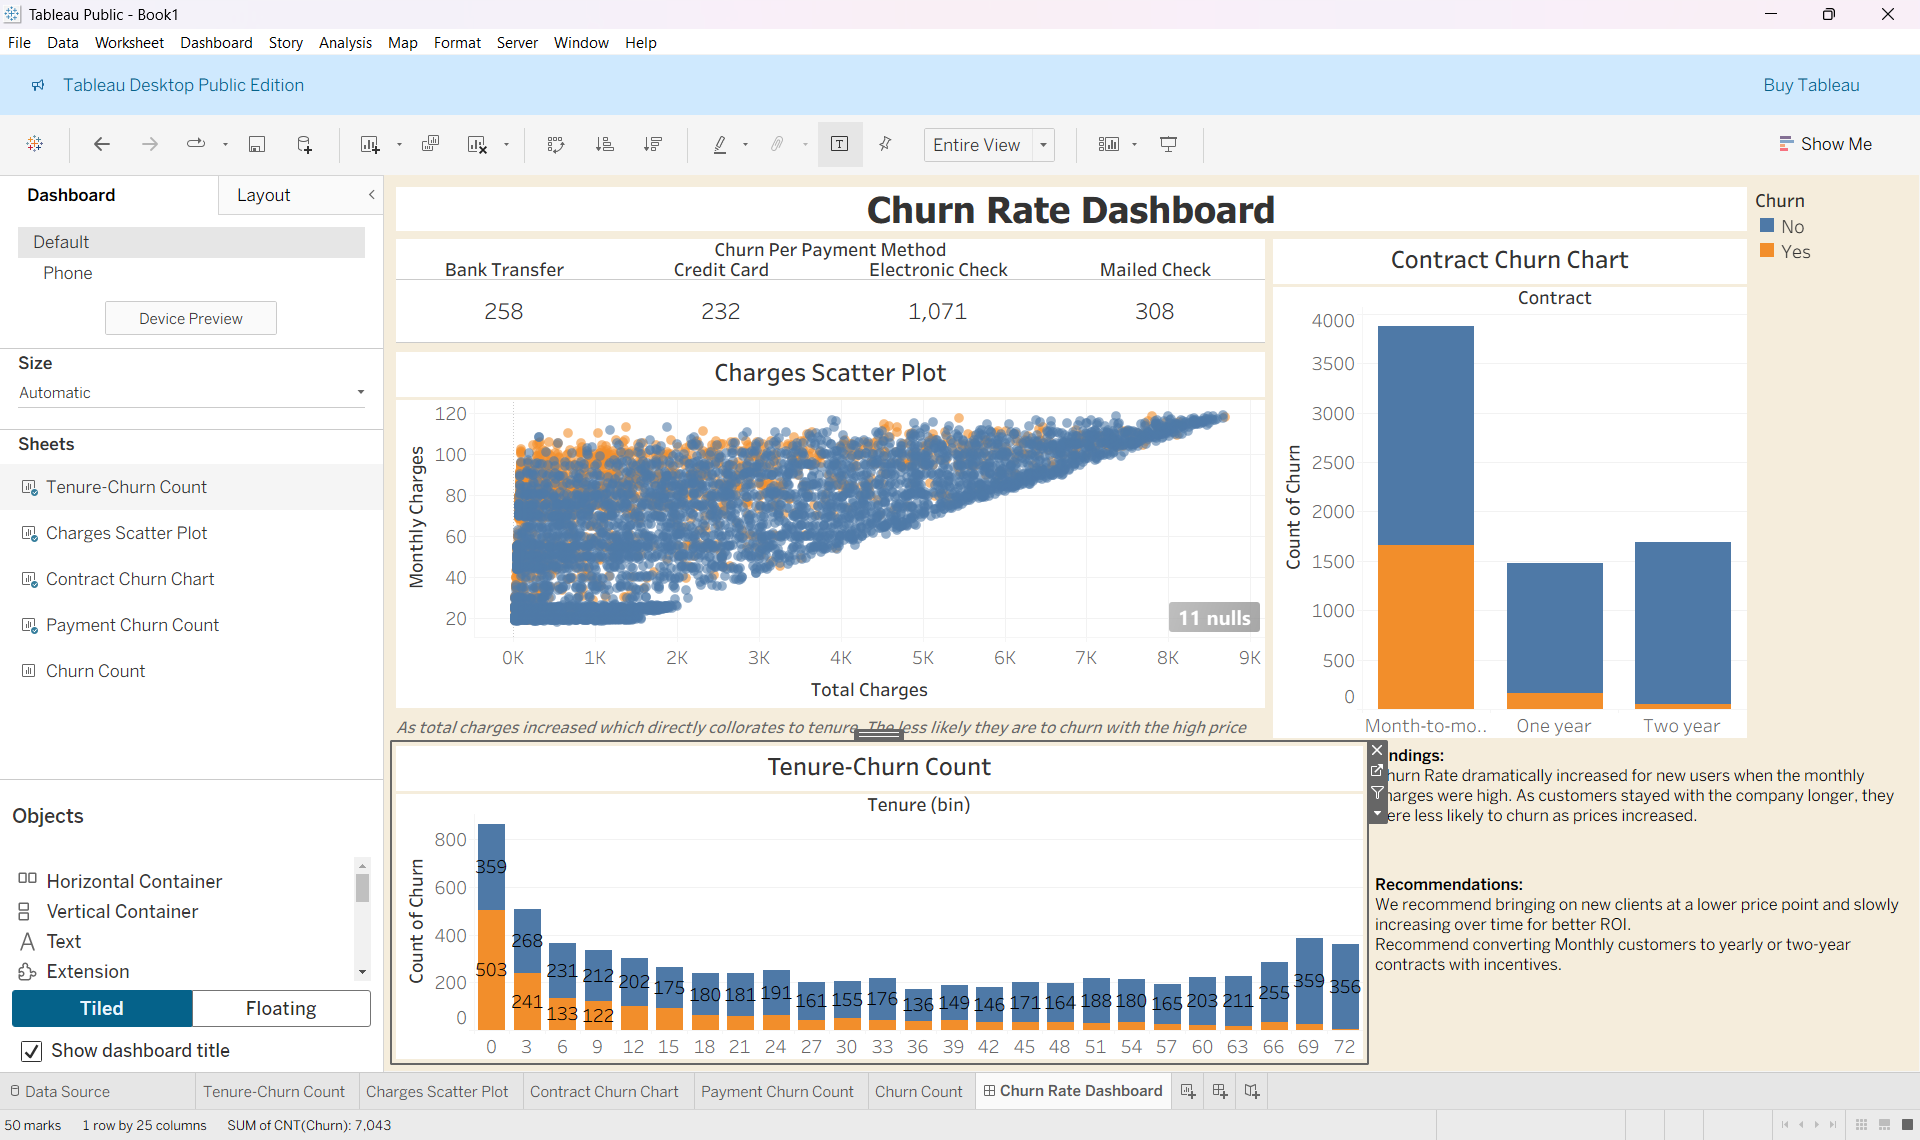

What the dashboard file says about the page in this screenshot:
{"tool":"tableau","page":{"name":"Churn Rate Dashboard","canvas":[1000,1000],"units":"permille","ordinal":0},"visuals":[{"type":"title","box":[5.2,8.9,885.4,58]},{"type":"legend","title":"Contract Churn Chart","param":"[federated.0miyc3c1ycgod71ega8i41jvqmqy].[none:Churn:nk]","box":[890.6,8.9,104.2,93.8]},{"type":"worksheet","title":"Payment Churn Count","mark":"Automatic","cols":["Payment Method (copy)_5468166435053568"],"box":[5.2,67,571.1,126.1]},{"type":"worksheet","title":"Contract Churn Chart","mark":"Automatic","rows":["Churn"],"cols":["Contract"],"box":[576.4,67,314.2,565.8]},{"type":"worksheet","title":"Charges Scatter Plot","mark":"Automatic","rows":["MonthlyCharges"],"cols":["TotalCharges"],"box":[5.2,193.1,571.1,439.7]},{"type":"worksheet","title":"Tenure-Churn Count","mark":"Automatic","rows":["Churn"],"cols":["Tenure (bin)"],"box":[5.2,632.8,635.2,358.3]},{"type":"text","box":[640.4,632.8,354.4,358.3]}]}

Visuals, with their boxes on the dashboard's canvas, which has no fixed pixel size, in thousandths of its width and height (x1, y1, x2, y2). These are canvas units, not pixel positions in the 1920x1140 screenshot, which may show the page scaled, cropped or inside an application window:
title: bbox=(5, 9, 891, 67)
"Contract Churn Chart" legend: bbox=(891, 9, 995, 103)
"Payment Churn Count" worksheet: bbox=(5, 67, 576, 193)
"Contract Churn Chart" worksheet: bbox=(576, 67, 891, 633)
"Charges Scatter Plot" worksheet: bbox=(5, 193, 576, 633)
"Tenure-Churn Count" worksheet: bbox=(5, 633, 640, 991)
text: bbox=(640, 633, 995, 991)
